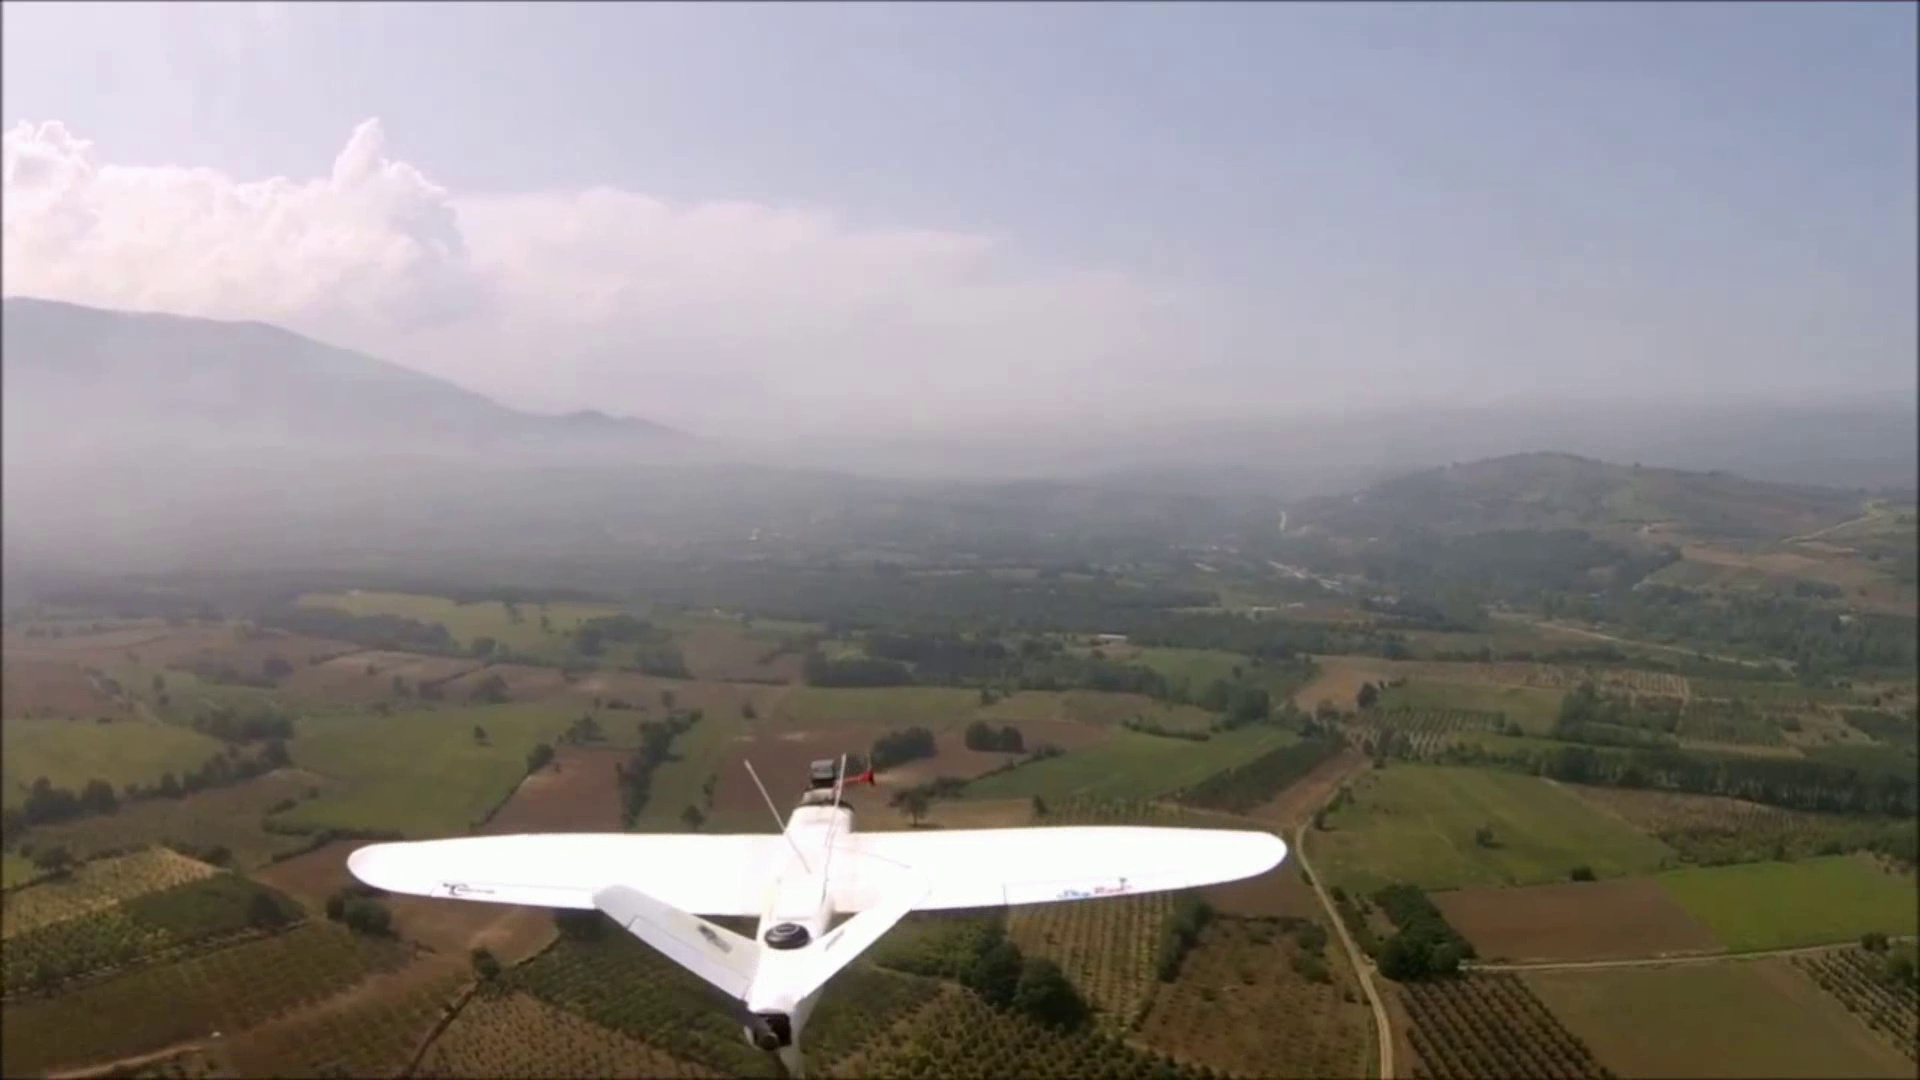airplane: (342, 754, 1295, 1056)
